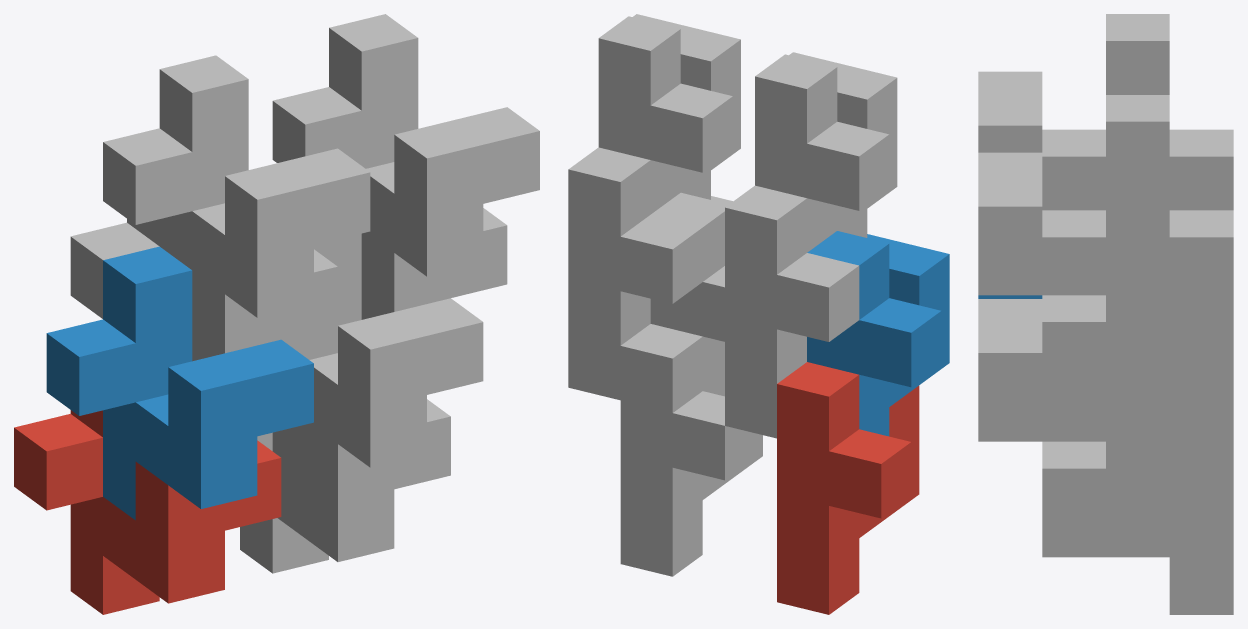
Rendered from tiling.obj.
3 views of the same model, side by side, from view 1: azimuth 30°, elevation 25°; view 2: azimuth 150°, elevation 25°; view 3: azimuth 270°, elevation 25° (orthographic). The views are drawn at different scales.
Parts seen in each view (by area): view 1: copy_1_domain_2, copy_1_domain_4, copy_1_domain_8, copy_1_domain_1, copy_1_domain_6, copy_1_domain_5, copy_1_domain_3, copy_1_domain_7; view 2: copy_1_domain_1, copy_1_domain_5, copy_1_domain_7, copy_1_domain_3, copy_1_domain_8, copy_1_domain_4, copy_1_domain_2, copy_1_domain_6; view 3: copy_1_domain_8, copy_1_domain_7, copy_1_domain_5, copy_1_domain_6, copy_1_domain_4, copy_1_domain_3.
Part boxes in pixels (x1=…): copy_1_domain_2: x1=46, y1=246, x2=313, y2=520; copy_1_domain_4: x1=103, y1=55, x2=370, y2=317; copy_1_domain_8: x1=272, y1=14, x2=539, y2=276; copy_1_domain_1: x1=14, y1=410, x2=281, y2=614; copy_1_domain_6: x1=272, y1=233, x2=483, y2=478; copy_1_domain_5: x1=240, y1=399, x2=450, y2=573; copy_1_domain_3: x1=70, y1=219, x2=337, y2=361; copy_1_domain_7: x1=361, y1=208, x2=507, y2=319; copy_1_domain_1: x1=777, y1=362, x2=919, y2=614; copy_1_domain_5: x1=620, y1=324, x2=762, y2=576; copy_1_domain_7: x1=568, y1=147, x2=710, y2=400; copy_1_domain_3: x1=725, y1=185, x2=867, y2=438; copy_1_domain_8: x1=598, y1=14, x2=740, y2=214; copy_1_domain_4: x1=755, y1=52, x2=897, y2=252; copy_1_domain_2: x1=807, y1=231, x2=949, y2=436; copy_1_domain_6: x1=650, y1=192, x2=732, y2=396; copy_1_domain_8: x1=978, y1=95, x2=1169, y2=352; copy_1_domain_7: x1=1042, y1=210, x2=1233, y2=468; copy_1_domain_5: x1=1042, y1=441, x2=1233, y2=614; copy_1_domain_6: x1=978, y1=299, x2=1169, y2=499; copy_1_domain_4: x1=978, y1=14, x2=1169, y2=210; copy_1_domain_3: x1=1169, y1=129, x2=1233, y2=210.
Bounding box in the file's own units: 7 × 9 × 4.
